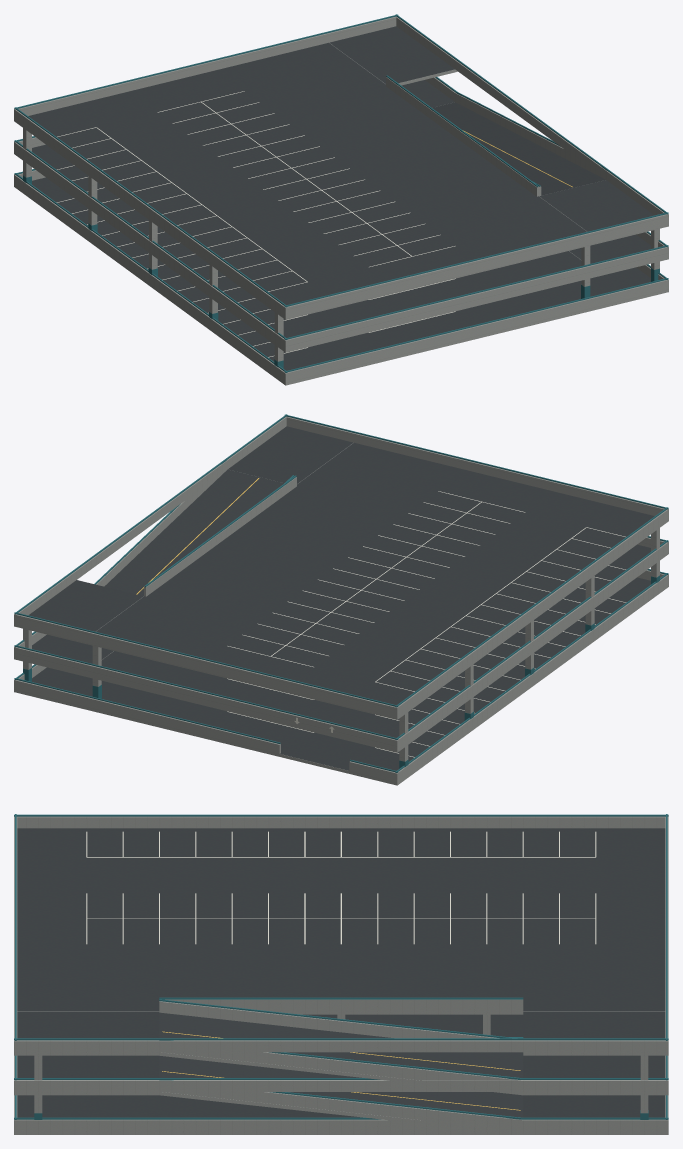
Rendered from medium_03.glb.
The picture shows the model from 3 angles, top to bottom: view 1: azimuth 30°, elevation 25°; view 2: azimuth 150°, elevation 25°; view 3: azimuth 270°, elevation 25°; orthographic projection. The views are drawn at different scales.
Parts seen in each view (by area): view 1: medium_03_Asphalt, medium_03_Concrete, medium_03_Teal, medium_03_Paint; view 2: medium_03_Asphalt, medium_03_Concrete, medium_03_Teal, medium_03_Paint; view 3: medium_03_Asphalt, medium_03_Concrete, medium_03_Teal, medium_03_Paint, medium_03_Yellow.
Part boxes in pixels (left/top/right/bottom): medium_03_Asphalt: left=28, top=26, right=654, bottom=370; medium_03_Concrete: left=14, top=16, right=668, bottom=385; medium_03_Teal: left=14, top=14, right=668, bottom=372; medium_03_Paint: left=56, top=91, right=455, bottom=357; medium_03_Asphalt: left=28, top=426, right=654, bottom=770; medium_03_Concrete: left=14, top=416, right=668, bottom=785; medium_03_Teal: left=14, top=414, right=668, bottom=772; medium_03_Paint: left=227, top=491, right=626, bottom=757; medium_03_Asphalt: left=17, top=828, right=665, bottom=1117; medium_03_Concrete: left=14, top=816, right=668, bottom=1134; medium_03_Teal: left=14, top=814, right=668, bottom=1119; medium_03_Paint: left=86, top=831, right=596, bottom=944; medium_03_Yellow: left=162, top=1031, right=520, bottom=1110.
Bounding box in the file's own units: 44 × 8.68 × 54.02.
6 materials, 2 textured.
